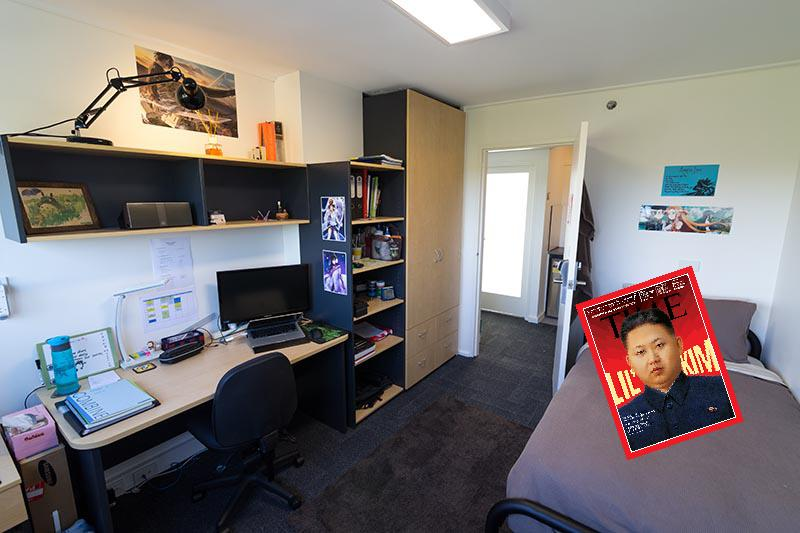times: (569, 265, 745, 461)
